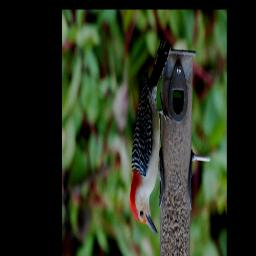Woodpecker: (129, 30, 173, 236)
